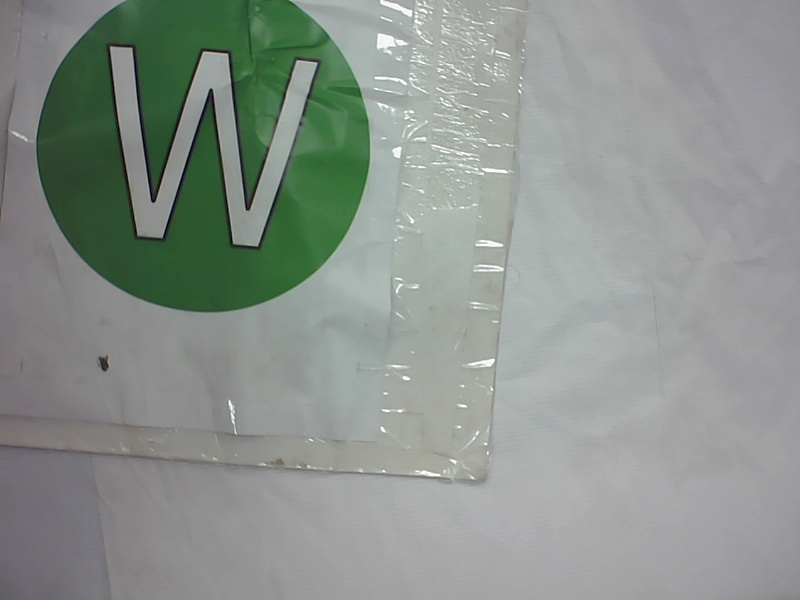areaB: (25, 3, 386, 311)
